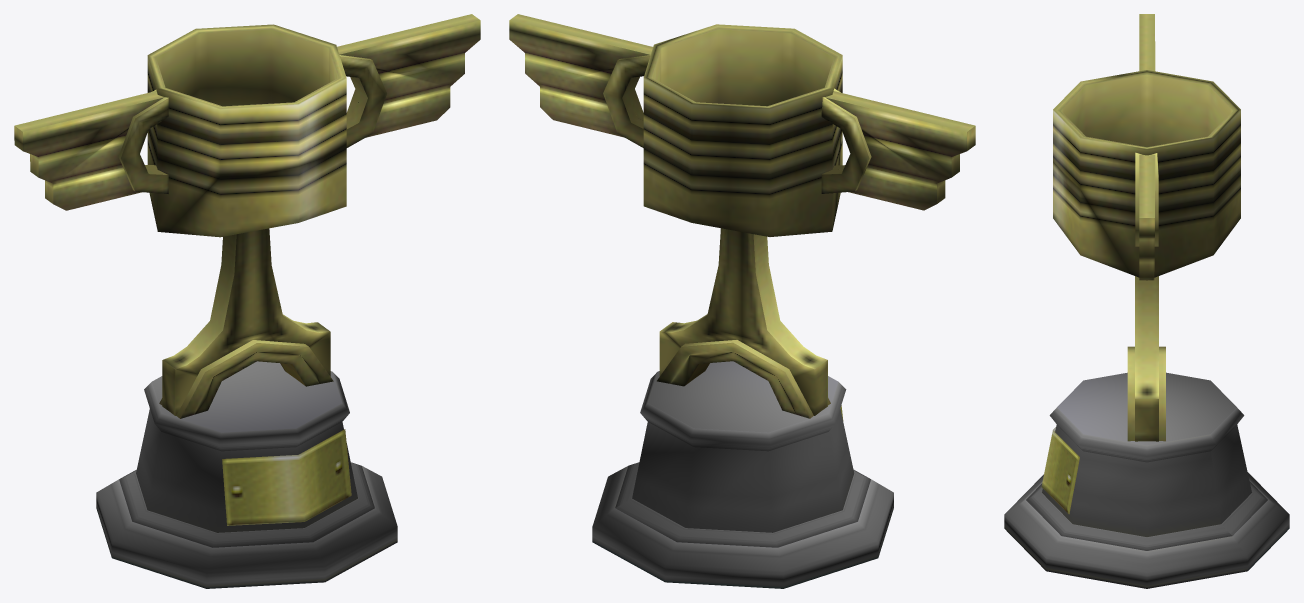
The model's file is iconnorm.ico.obj.
The picture shows the model from 3 angles, left to right: view 1: azimuth 30°, elevation 25°; view 2: azimuth 150°, elevation 25°; view 3: azimuth 270°, elevation 25°; orthographic projection. The views are drawn at different scales.
Bounding box in the file's own units: 3.18 × 3.05 × 1.88.
1 material, 1 textured.
